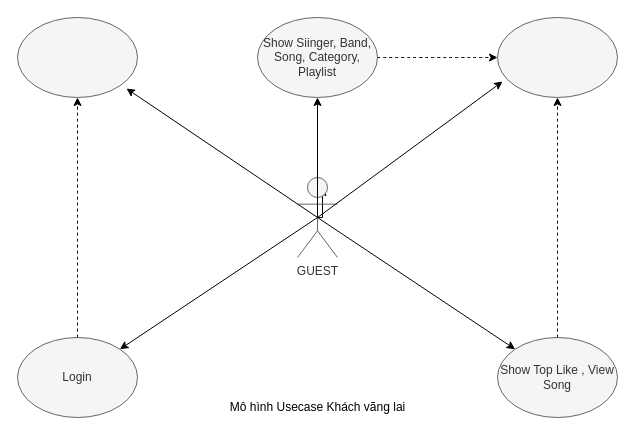
This 635x440 diagram has some shape labels left out. The centre of each missing label's shape, as x and y in pixels:
"Detail Song" belongs at (557,57).
"Register" belongs at (77,57).
